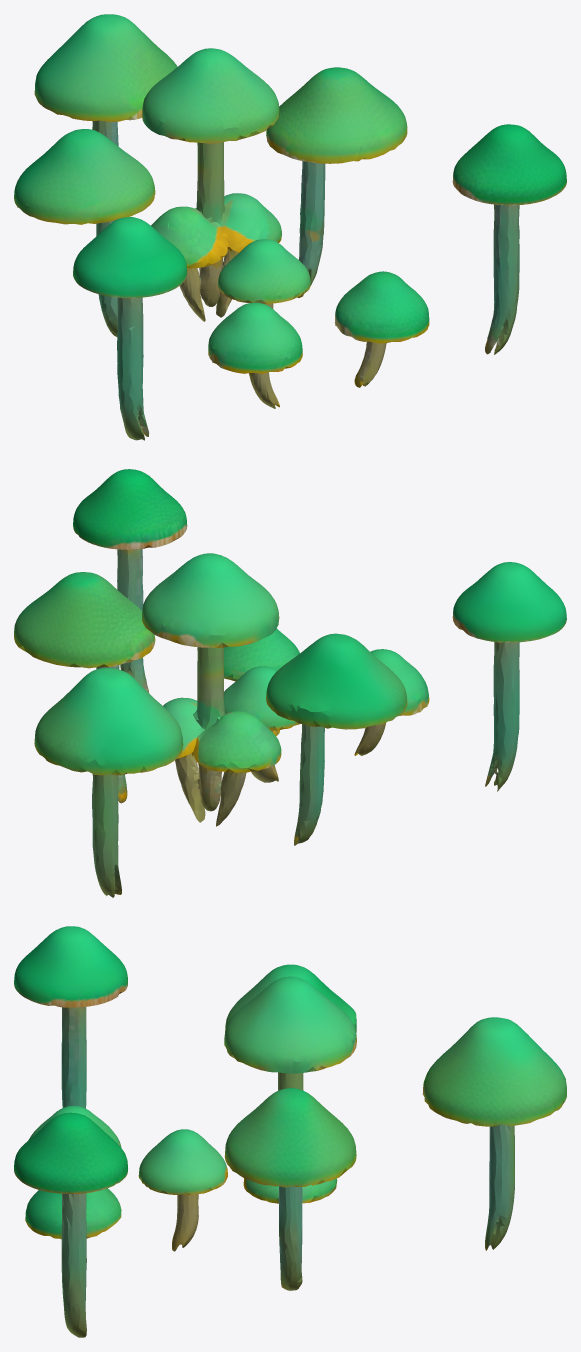
3 views of the same model, one above another, from view 1: azimuth 30°, elevation 25°; view 2: azimuth 150°, elevation 25°; view 3: azimuth 270°, elevation 25° (orthographic).
Visible parts, largest first — view 1: 041; view 2: 041; view 3: 041.
Part boxes in pixels (bbox=[...]): 041: bbox=[14, 14, 566, 440]; 041: bbox=[14, 469, 566, 897]; 041: bbox=[14, 926, 566, 1337].
Bounding box in the file's own units: 1.9 × 1.01 × 1.89.
Materials: 1 (1 with a texture image).
